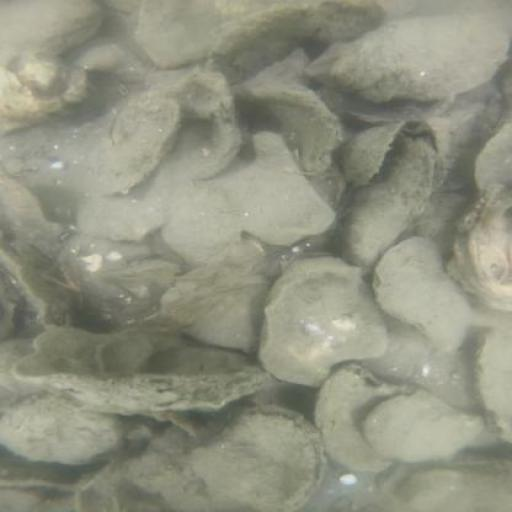Oyster-Closed: (305, 11, 511, 105), (372, 234, 471, 360), (194, 411, 315, 511), (364, 389, 490, 465), (2, 395, 124, 466), (1, 1, 109, 72), (137, 1, 224, 68), (476, 123, 512, 194)
Oyster-Open: (342, 132, 449, 279)
